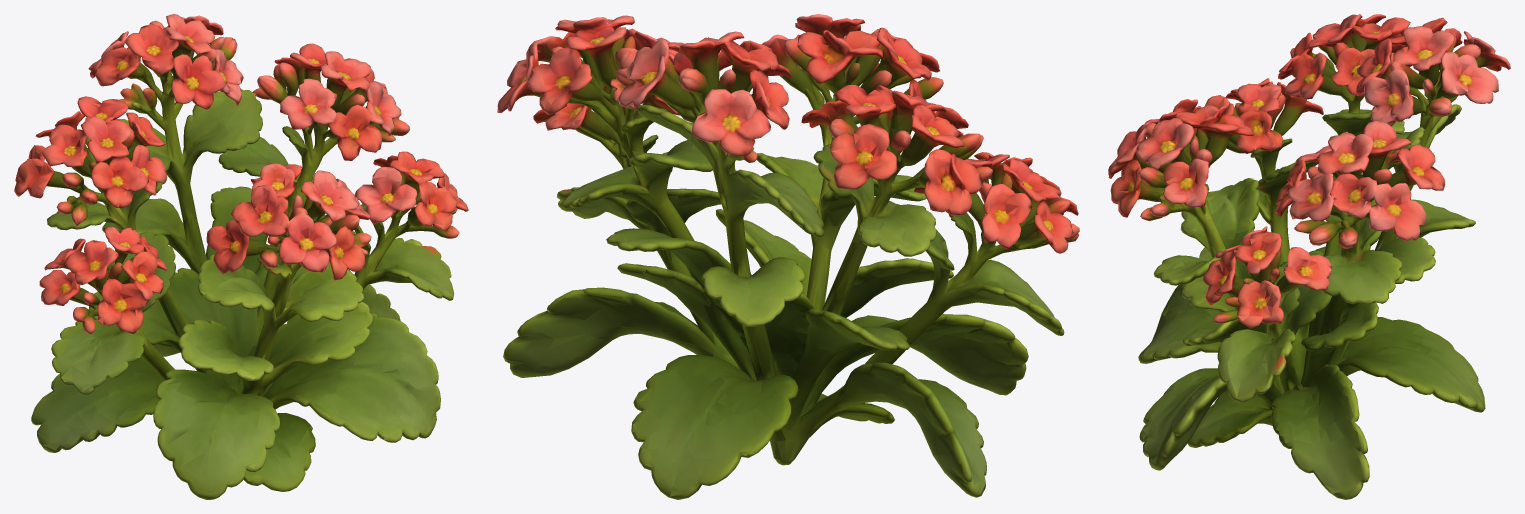
The model's file is kalanchoe.glb.
The picture shows the model from 3 angles, left to right: view 1: azimuth 30°, elevation 25°; view 2: azimuth 150°, elevation 25°; view 3: azimuth 270°, elevation 25°; orthographic projection. The views are drawn at different scales.
Visible parts, largest first — view 1: tripo_node_d2ec3f7d; view 2: tripo_node_d2ec3f7d; view 3: tripo_node_d2ec3f7d.
Part boxes in pixels (x1,y1,x2,y2): tripo_node_d2ec3f7d: (14, 14, 468, 499); tripo_node_d2ec3f7d: (497, 14, 1079, 499); tripo_node_d2ec3f7d: (1108, 14, 1510, 499).
Bounding box in the file's own units: 1.24 × 1.1 × 0.971.
1 material, 1 textured.
